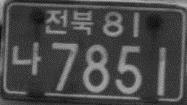1: (154, 46, 169, 100), (130, 10, 141, 40)
5: (114, 44, 143, 95)
7: (50, 41, 80, 92)
8: (82, 43, 111, 94), (102, 10, 125, 38)
나: (11, 39, 43, 76)
전북_O: (45, 8, 95, 37)
